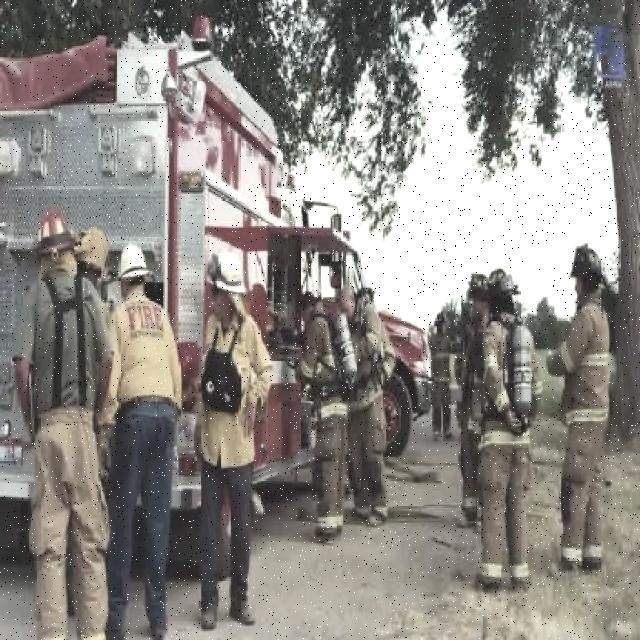Helmet: (34, 208, 83, 254), (566, 242, 612, 288), (206, 249, 248, 297), (115, 241, 154, 281), (486, 267, 522, 296), (466, 269, 491, 297)
Mask: (474, 312, 542, 588), (544, 292, 610, 568), (297, 308, 348, 534), (350, 292, 386, 503), (426, 333, 452, 435)
